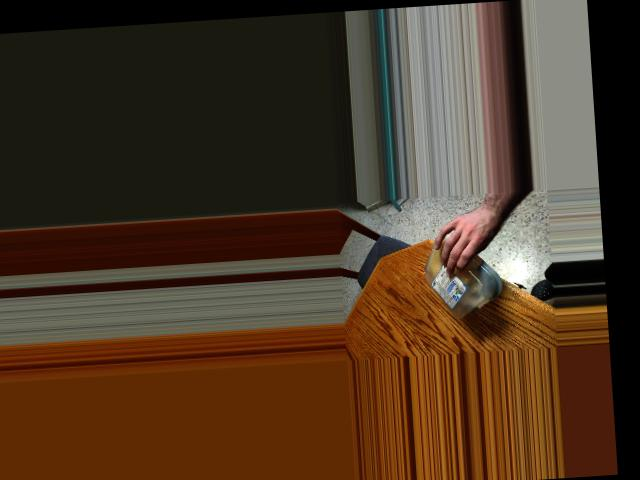cheese: (421, 223, 501, 319)
